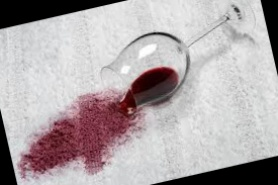wine: (15, 83, 152, 185)
